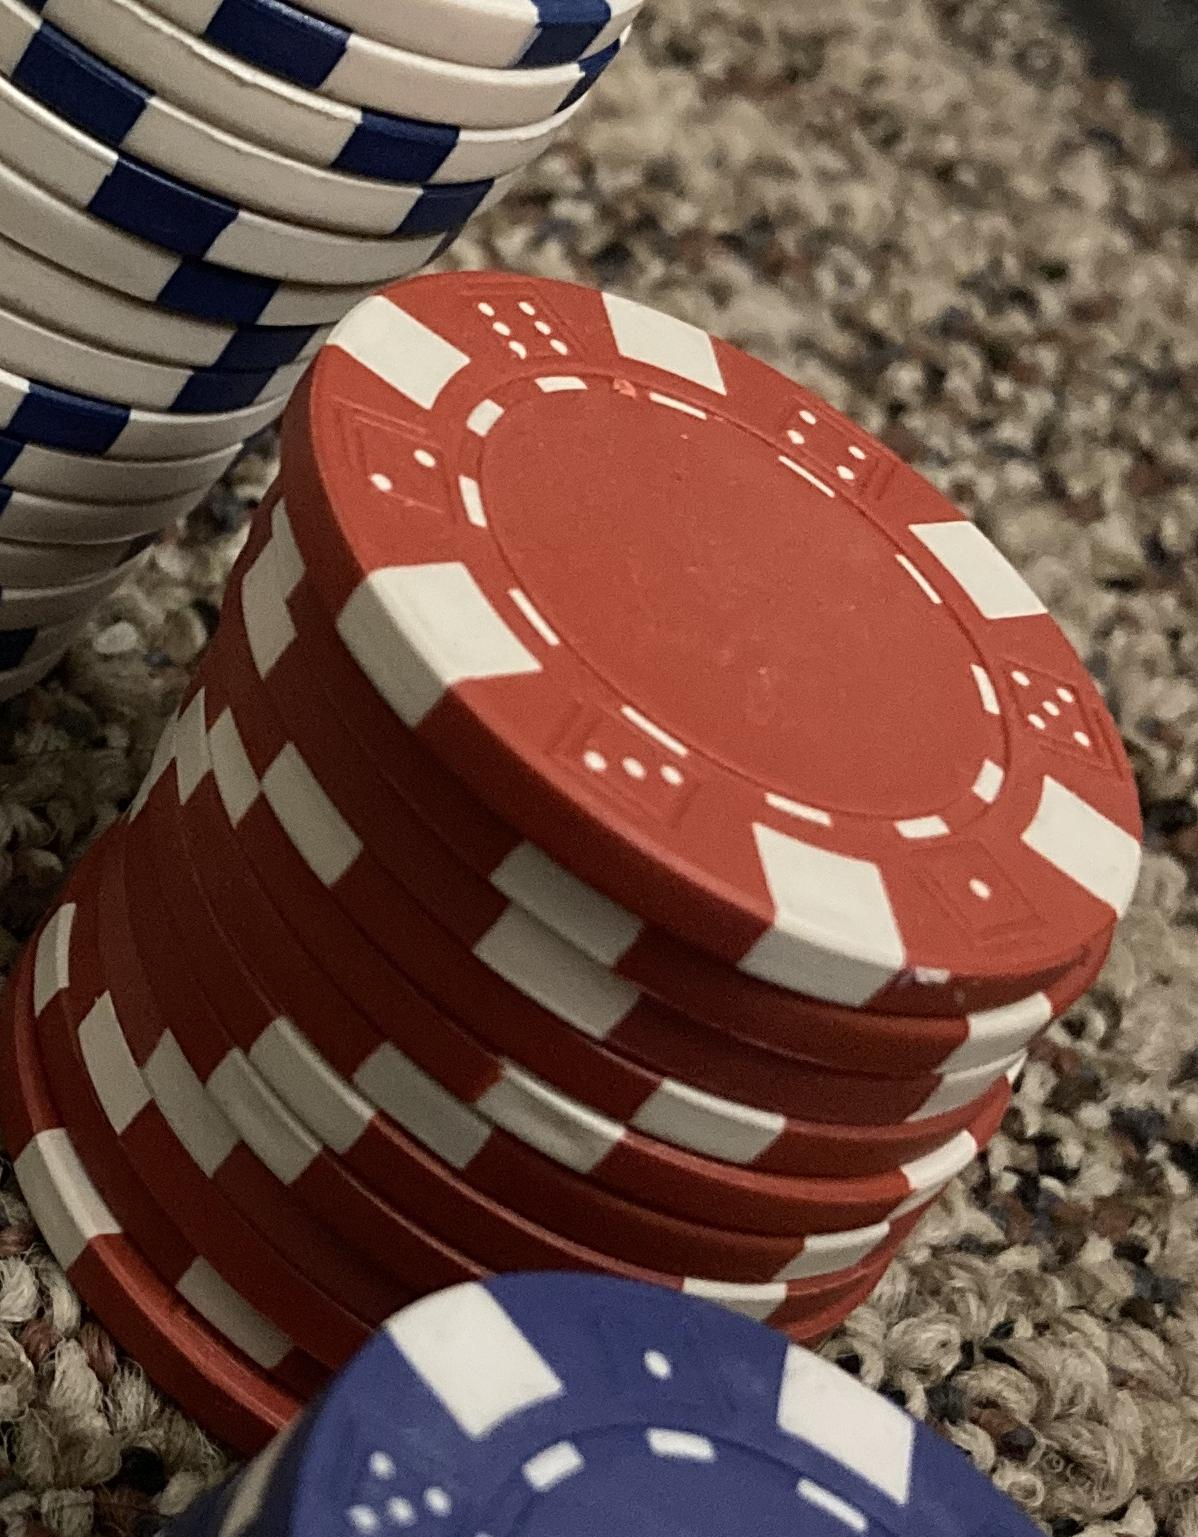Chip: (1, 1, 1198, 1537)
